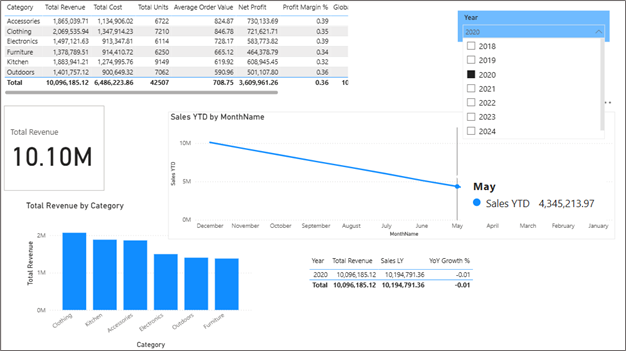

What the dashboard file says about the page in this screenshot:
{"tool":"powerbi","page":{"name":"Page 1","canvas":[1280,720],"ordinal":0},"visuals":[{"type":"tableEx","fields":{"Values":["DimProduct.Category","FactSales.Total Revenue","FactSales.Total Cost","FactSales.Total Units","FactSales.Average Order Value","FactSales.Net Profit","FactSales.Profit Margin %","FactSales.Global Total Sales","FactSales.% Contribution"]},"box":[0,0,713.2,200.4],"z":0},{"type":"slicer","fields":{"Values":["DimDate.Year"]},"box":[932.3,23.3,310.8,63.7],"z":1000},{"type":"tableEx","fields":{"Values":["DimDate.Year","FactSales.Total Revenue","FactSales.Sales LY","FactSales.YoY Growth %"]},"box":[623.1,519,380.7,130.5],"z":2000},{"type":"cardVisual","fields":{"Data":["FactSales.Total Revenue"]},"box":[0,212.9,216,184.9],"z":3000},{"type":"clusteredColumnChart","fields":{"Category":["DimProduct.Category"],"Y":["FactSales.Total Revenue"]},"box":[45.1,411.8,470.8,307.6],"z":4000},{"type":"lineChart","fields":{"Category":["DimDate.MonthName"],"Y":["FactSales.Sales YTD"]},"box":[340.3,230,913.6,261],"z":5000}]}

Visuals, with their boxes on the page's 1280x720 design canvas (x1, y1, x2, y2). These are canvas units, not pixel positions in the 626x351 screenshot, which may show the page scaled, cropped or inside an application window:
tableEx - DimProduct.Category x FactSales.Total Revenue: (x1=0, y1=0, x2=713, y2=200)
slicer - DimDate.Year: (x1=932, y1=23, x2=1243, y2=87)
tableEx - DimDate.Year x FactSales.Total Revenue: (x1=623, y1=519, x2=1004, y2=650)
cardVisual - FactSales.Total Revenue: (x1=0, y1=213, x2=216, y2=398)
clusteredColumnChart - DimProduct.Category x FactSales.Total Revenue: (x1=45, y1=412, x2=516, y2=719)
lineChart - DimDate.MonthName x FactSales.Sales YTD: (x1=340, y1=230, x2=1254, y2=491)
